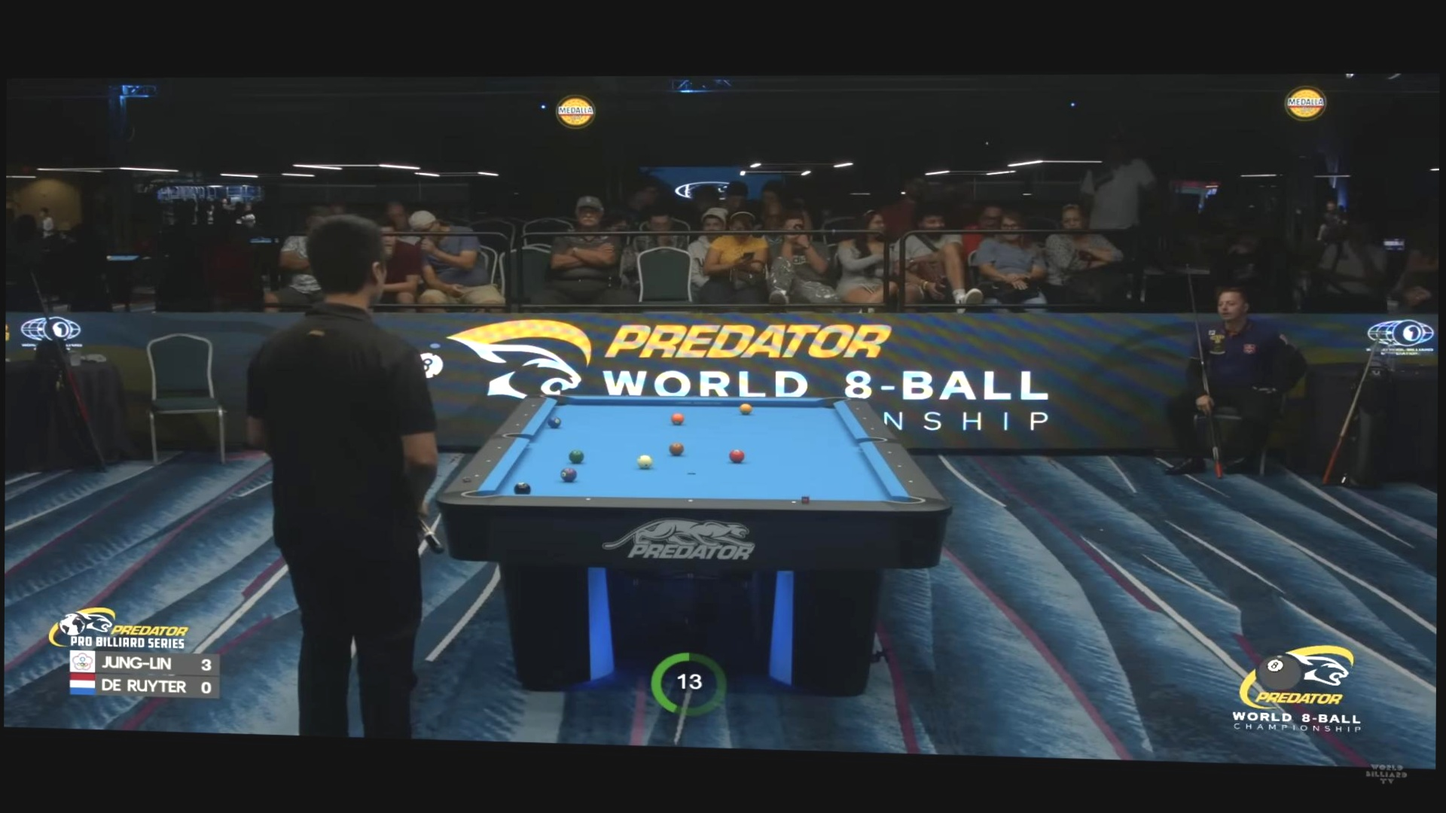Black: (514, 482, 531, 495)
Cue: (637, 454, 653, 469)
Solid: (585, 497, 591, 502), (908, 479, 914, 484), (688, 498, 693, 503), (791, 500, 797, 504), (897, 464, 902, 468), (887, 450, 892, 454), (475, 474, 480, 478), (486, 459, 491, 463), (515, 423, 520, 427), (531, 404, 536, 408), (497, 446, 501, 450), (524, 413, 529, 416), (863, 417, 867, 420), (856, 407, 860, 410), (871, 427, 874, 430), (625, 394, 628, 397), (693, 395, 696, 398)
Striped: (560, 467, 577, 482), (568, 449, 584, 463), (729, 449, 745, 463), (669, 442, 684, 456), (547, 416, 561, 428), (671, 413, 684, 425), (740, 403, 752, 415)
